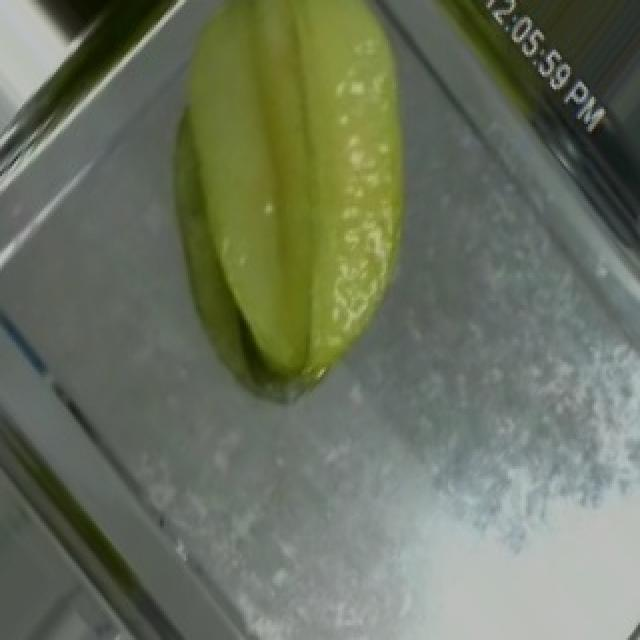fruit: (130, 0, 504, 357)
